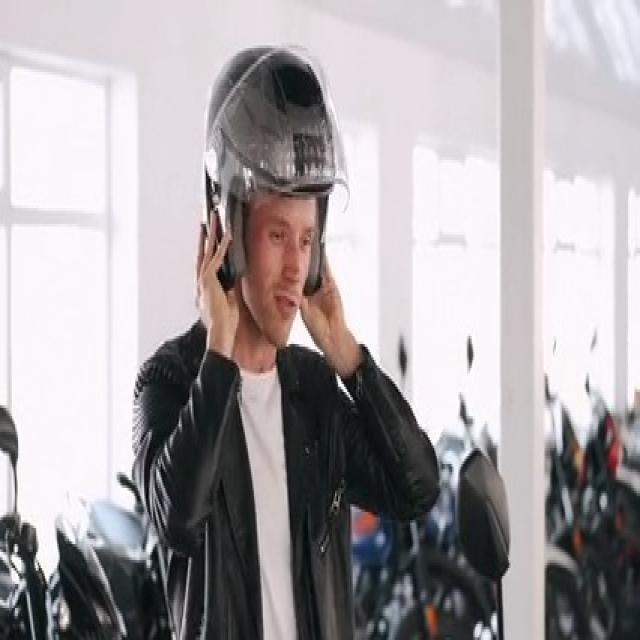Helmet_Wearer: (201, 40, 351, 360)
Jacket_Wearer: (123, 315, 435, 640)
Person: (121, 35, 439, 640)
